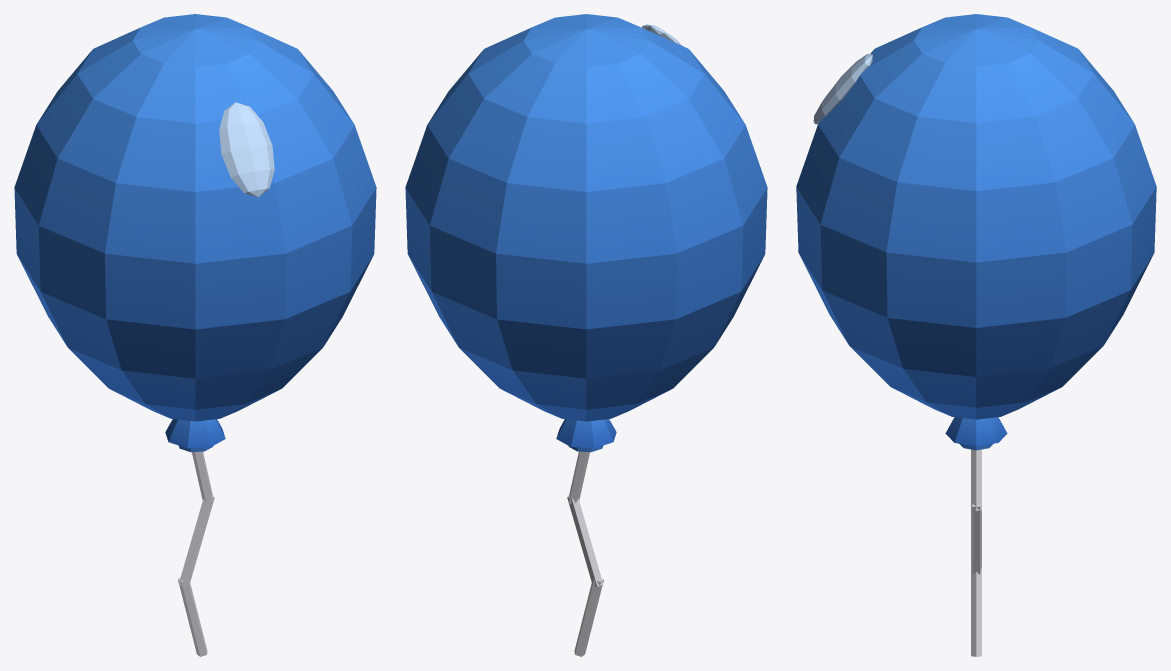
The model's file is balloon_blue.glb.
The picture shows the model from 3 angles, left to right: view 1: azimuth 30°, elevation 25°; view 2: azimuth 150°, elevation 25°; view 3: azimuth 270°, elevation 25°; orthographic projection.
Visible parts, largest first — view 1: balloon, string; view 2: balloon, string; view 3: balloon, string.
Part boxes in pixels (x1,y1,x2,y2): balloon: (14, 14, 376, 452); string: (178, 451, 214, 656); balloon: (405, 14, 767, 452); string: (567, 451, 603, 656); balloon: (796, 14, 1156, 450); string: (971, 449, 981, 656).
Bounding box in the file's own units: 0.9848 × 1.88 × 0.9848.
1 material, 1 textured.
